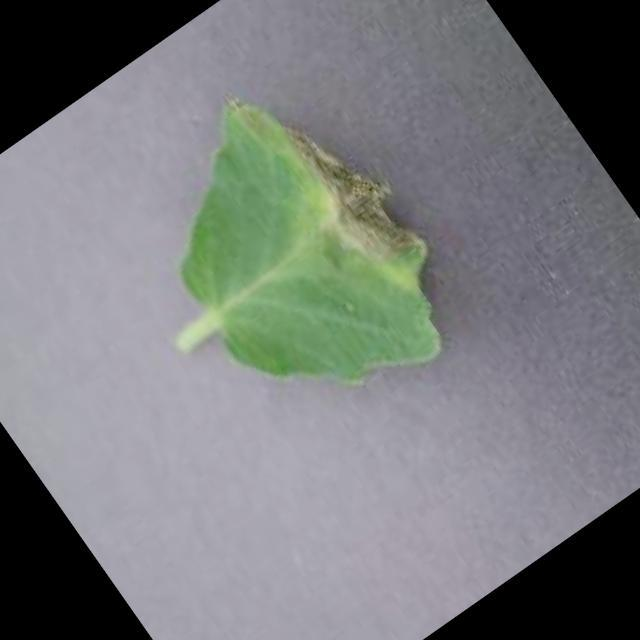Tomato late blight leaf: (112, 48, 486, 448)
